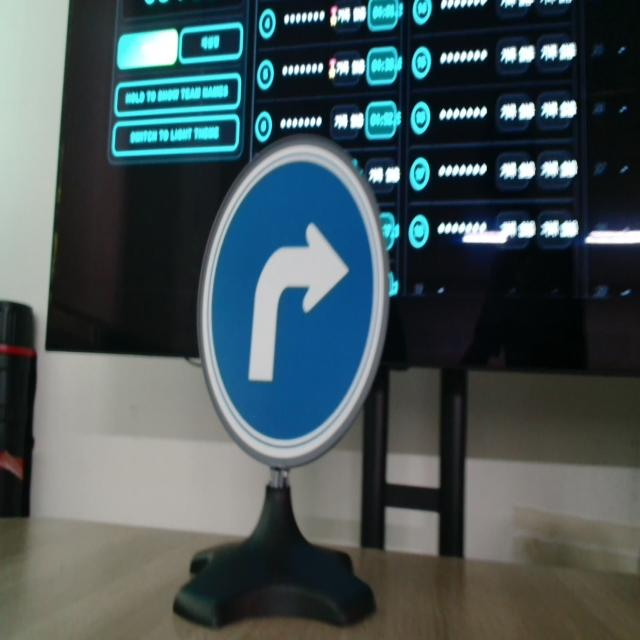right_dierection: (187, 116, 396, 481)
